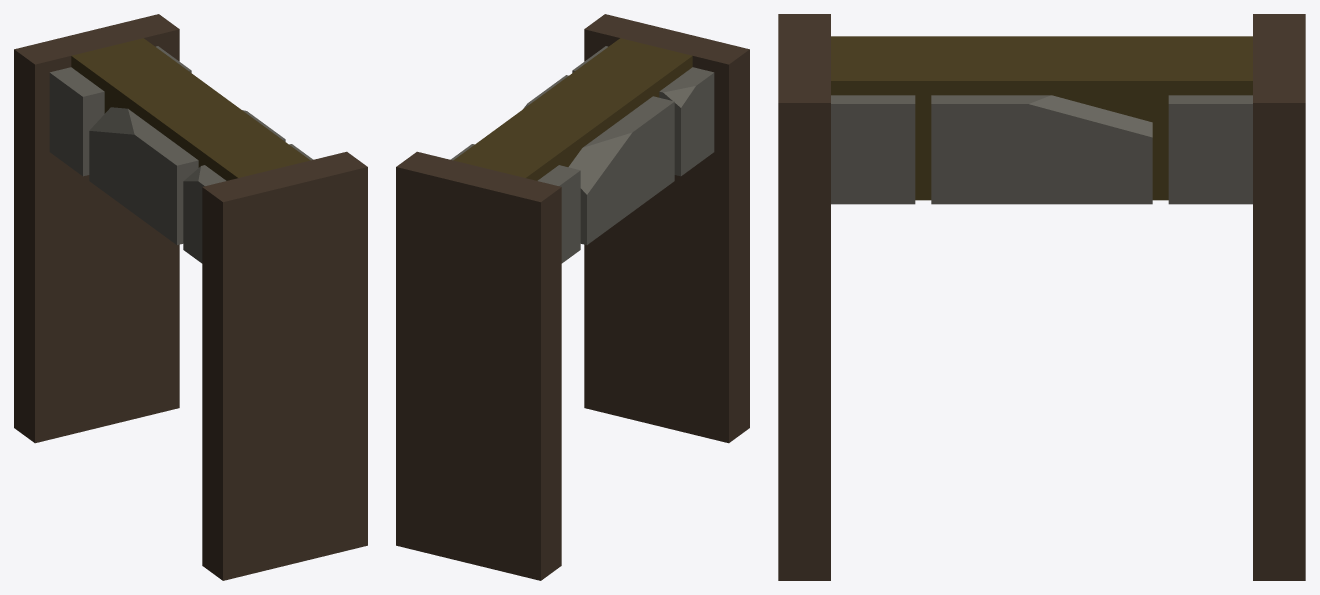
File: A_BrickWindowFrame02.fbx
3 renders of one model, left to right at view 1: azimuth 30°, elevation 25°; view 2: azimuth 150°, elevation 25°; view 3: azimuth 270°, elevation 25°, orthographic. The views are drawn at different scales.
Visible parts, largest first — view 1: A_BrickWindowFrame02; view 2: A_BrickWindowFrame02; view 3: A_BrickWindowFrame02.
Part boxes in pixels (x1,y1,x2,y2): A_BrickWindowFrame02: (14,14,367,580); A_BrickWindowFrame02: (396,14,749,580); A_BrickWindowFrame02: (778,14,1305,580).
Bounding box in the file's own units: 40 × 100 × 100.
